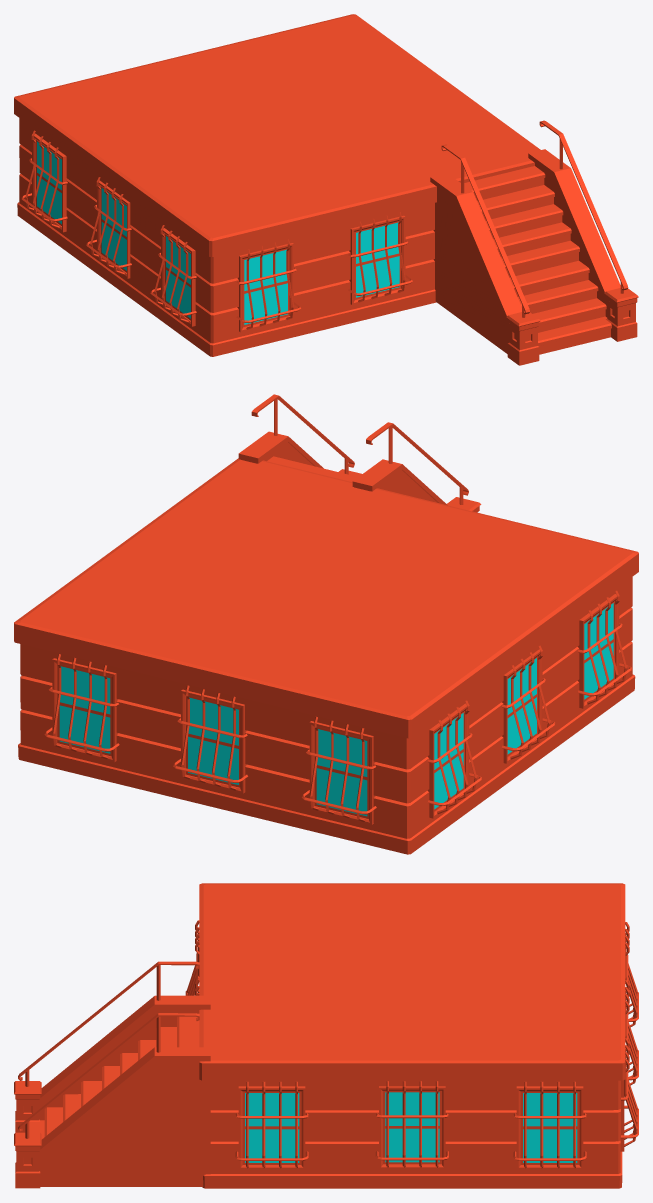
The model's file is SM_Squarehouse_Bottom_C_AS_City.fbx.
3 renders of one model, top to bottom at view 1: azimuth 30°, elevation 25°; view 2: azimuth 150°, elevation 25°; view 3: azimuth 270°, elevation 25°, orthographic. The views are drawn at different scales.
Visible parts, largest first — view 1: SM_Squarehouse_Bottom_C_AS_City; view 2: SM_Squarehouse_Bottom_C_AS_City; view 3: SM_Squarehouse_Bottom_C_AS_City.
Part boxes in pixels (bbox=[...]): SM_Squarehouse_Bottom_C_AS_City: bbox=[14, 14, 638, 365]; SM_Squarehouse_Bottom_C_AS_City: bbox=[14, 394, 638, 854]; SM_Squarehouse_Bottom_C_AS_City: bbox=[14, 883, 638, 1188].
Size of the model in its own units: 6.55 by 2.7 by 8.99.
